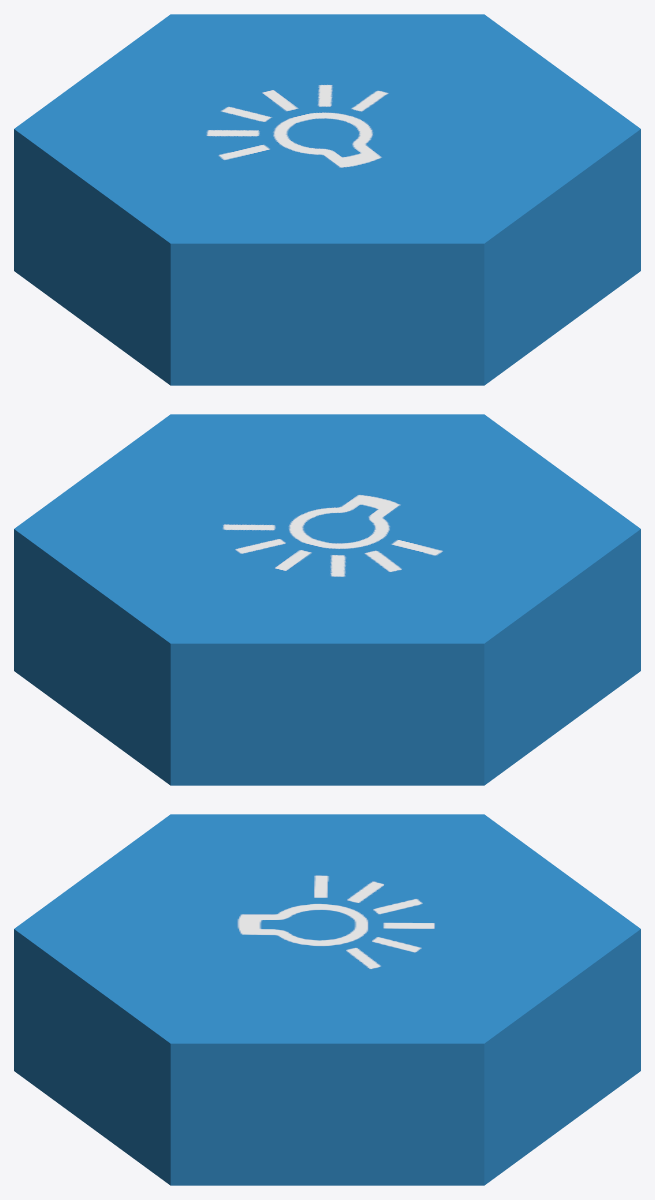
File: hexagon02.fbx
3 views of the same model, one above another, from view 1: azimuth 30°, elevation 25°; view 2: azimuth 150°, elevation 25°; view 3: azimuth 270°, elevation 25° (orthographic).
Parts seen in each view (by area): view 1: Cylinder; view 2: Cylinder; view 3: Cylinder.
Boxes of the visible parts, x1,y1,x2,y2 form: Cylinder: (14,14,640,385); Cylinder: (14,414,640,785); Cylinder: (14,814,640,1185).
Bounding box in the file's own units: 173 × 50 × 200.
